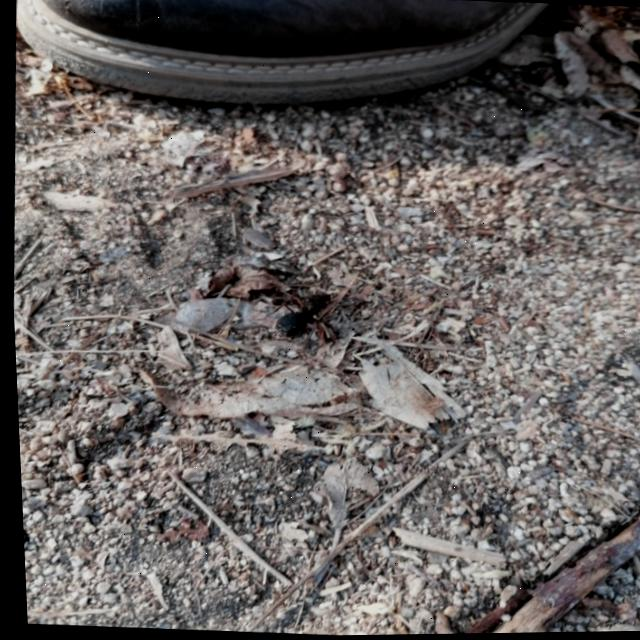Alive-Female-Dealate: (249, 280, 352, 354)
